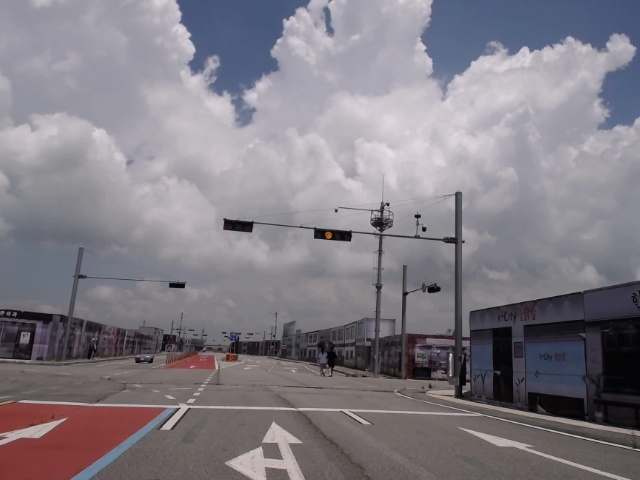orange_4: (312, 228, 353, 241)
